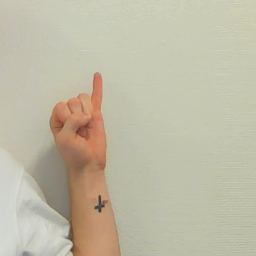I: (48, 71, 117, 165)
